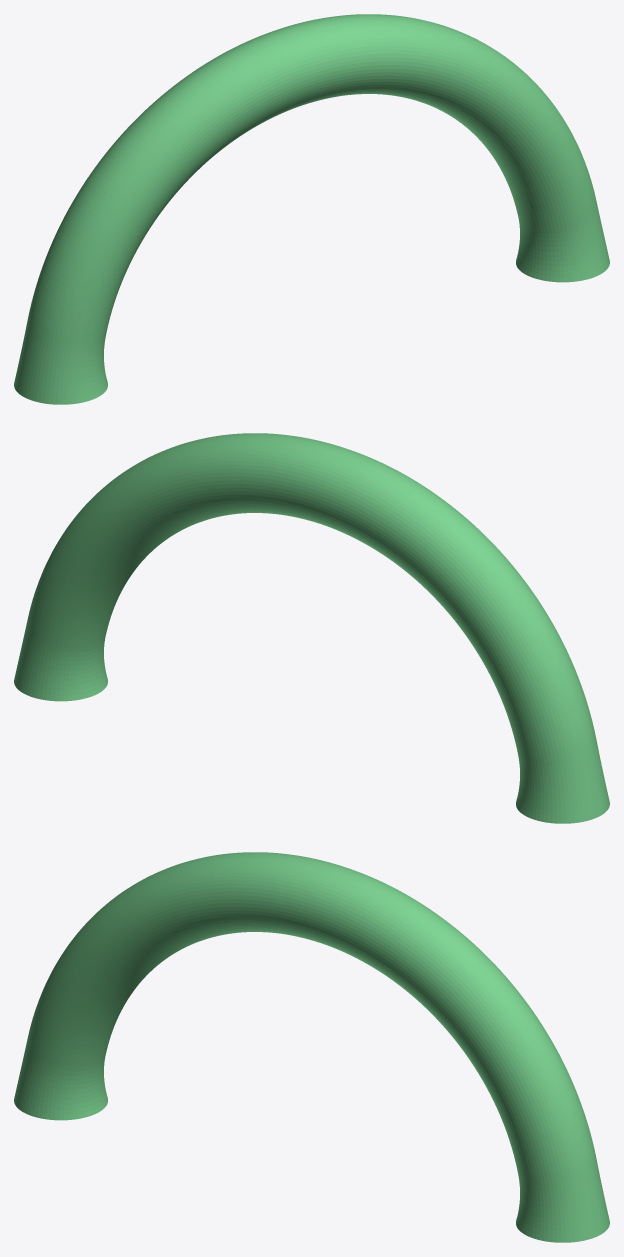
Rendered from arch_green.glb.
The picture shows the model from 3 angles, top to bottom: view 1: azimuth 30°, elevation 25°; view 2: azimuth 150°, elevation 25°; view 3: azimuth 330°, elevation 25°; orthographic projection.
Parts seen in each view (by area): view 1: geometry_0; view 2: geometry_0; view 3: geometry_0.
Part boxes in pixels (x1,y1,x2,y2): geometry_0: (14,14,609,404); geometry_0: (14,433,609,823); geometry_0: (14,852,609,1242).
Bounding box in the file's own units: 10.46 × 5.12 × 1.46.
